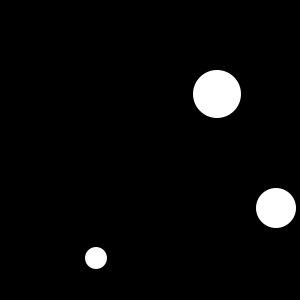rectangle: (193, 70, 241, 118), (256, 188, 296, 228), (85, 247, 107, 269)
